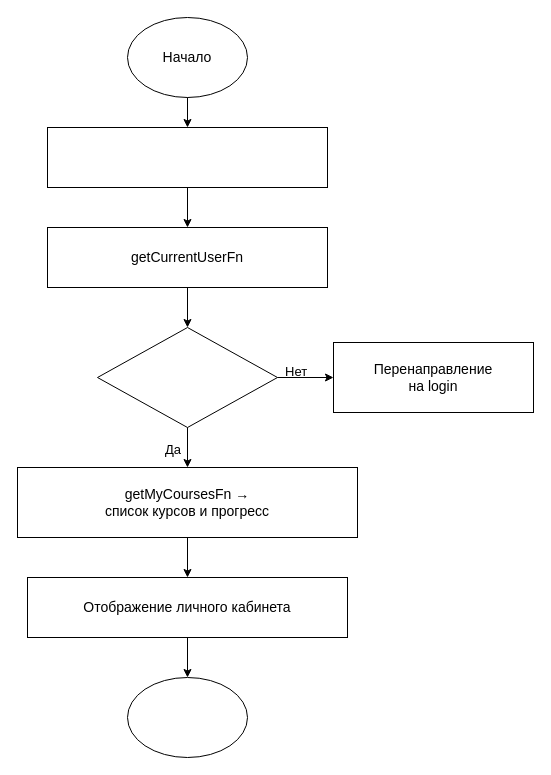
The diagram is 551 pixels wide and 775 high, and some of its shapes have lost their labels. The centre of each missing label's shape, as x and y in pixels:
"Загрузка account.tsx" belongs at (x=187, y=157).
"Конец" belongs at (x=187, y=717).
"Пользователь авторизован?" belongs at (x=187, y=377).
